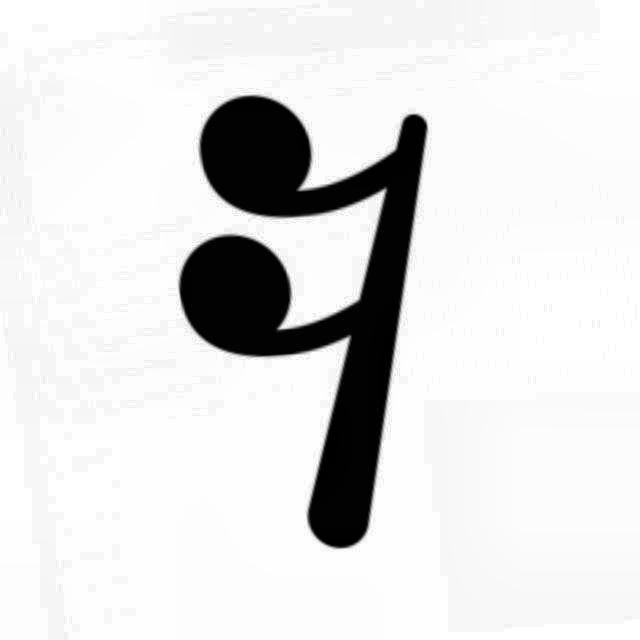Eighth-rest: (171, 76, 485, 554)
